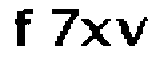7: (46, 5, 81, 50)
f: (9, 6, 35, 49)
v: (116, 15, 149, 48)
x: (80, 17, 112, 48)
